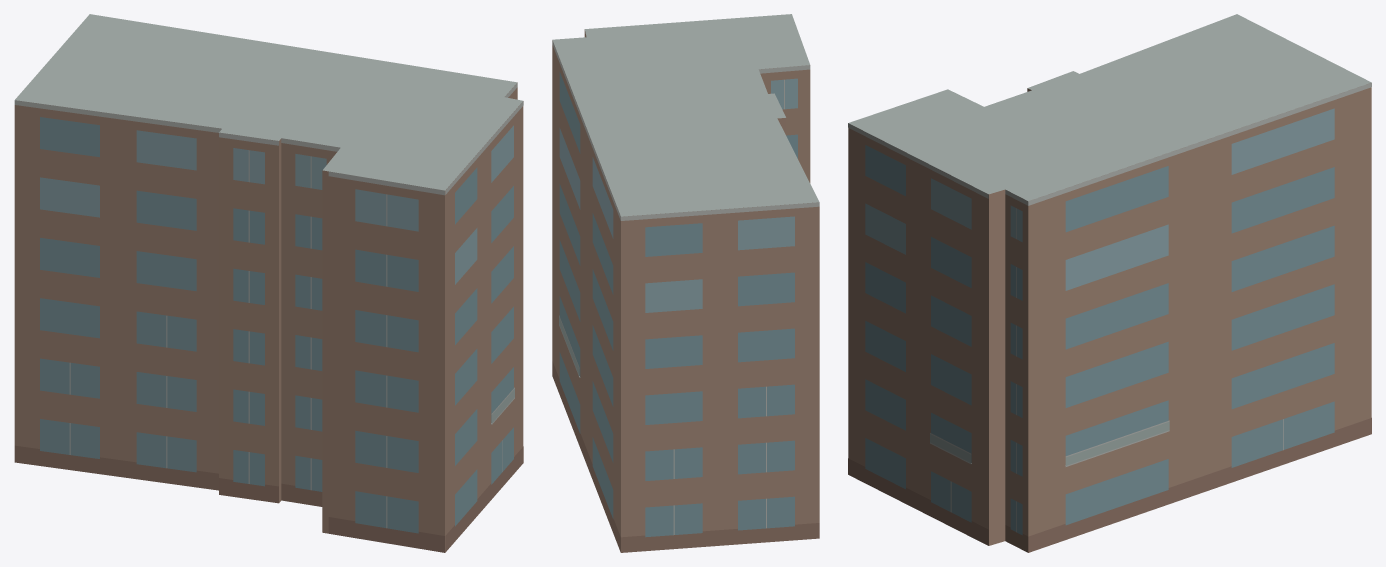
The model's file is survey-upis-32739277.glb.
The picture shows the model from 3 angles, left to right: view 1: azimuth 30°, elevation 25°; view 2: azimuth 150°, elevation 25°; view 3: azimuth 270°, elevation 25°; orthographic projection. The views are drawn at different scales.
Visible parts, largest first — view 1: survey-upis-32739277.tmp; view 2: survey-upis-32739277.tmp; view 3: survey-upis-32739277.tmp.
Boxes of the visible parts, box(x1,y1,x2,y2) form: survey-upis-32739277.tmp: box(14, 14, 523, 552); survey-upis-32739277.tmp: box(552, 14, 819, 552); survey-upis-32739277.tmp: box(848, 14, 1371, 552).
Size of the model in its own units: 21.14 by 18.5 by 24.98.
